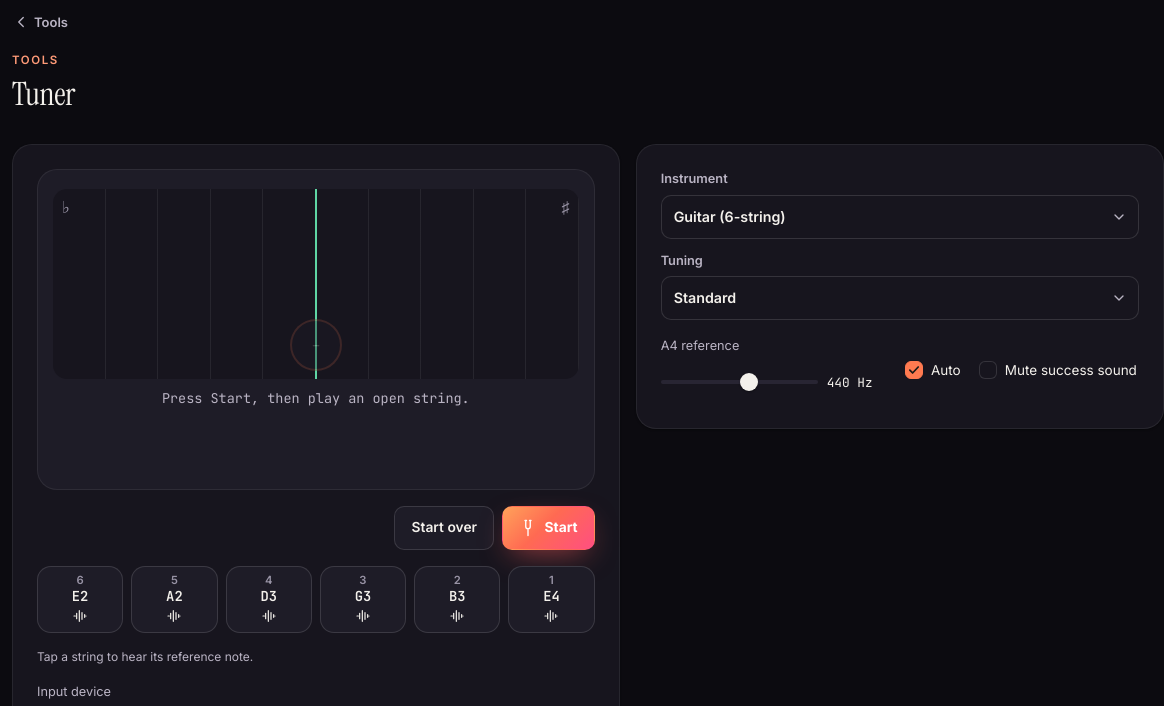
Scenario: StandaloneTunerView › hides tuning picker in chromatic mode
Select "Chromatic" in the dropdown with test id "tuner-instrument" at (900, 217), box [661,195,1139,239]
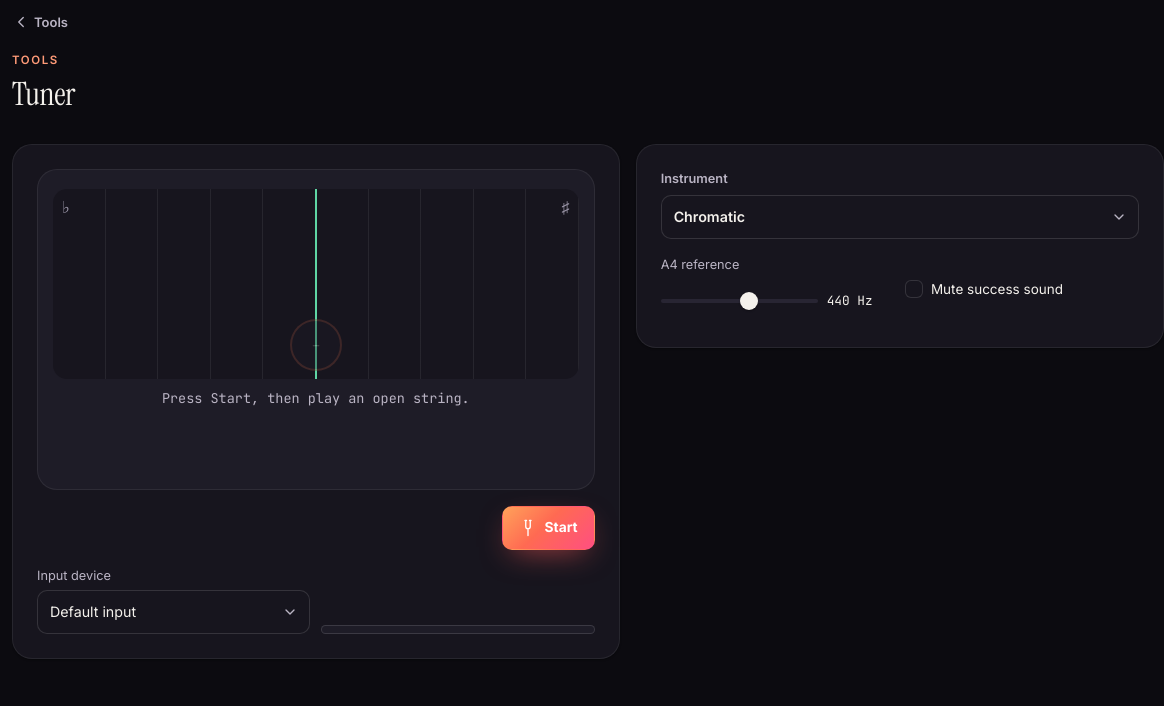
Result: the dropdown with test id "tuner-tuning" is gone
Result: the list with test id "tuner-strings" is gone
